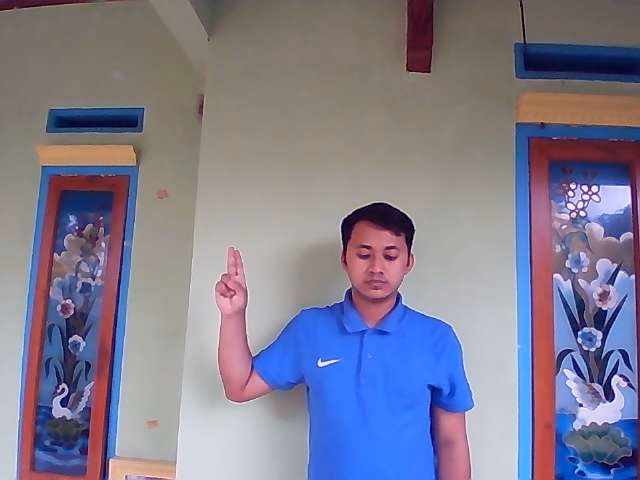U: (213, 245, 249, 314)
